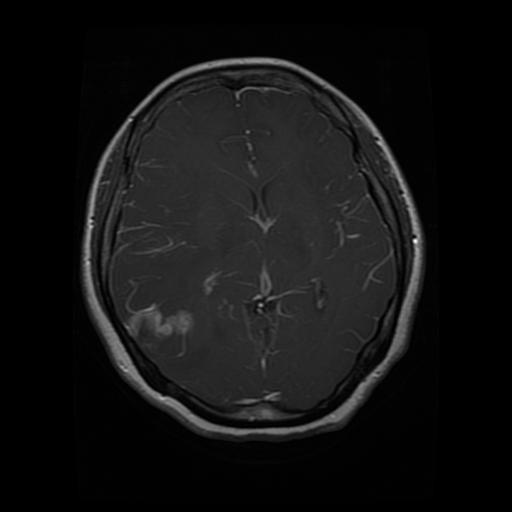Gliomia_tumour: (124, 303, 197, 342)
